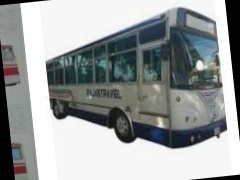bus: (42, 3, 229, 161)
